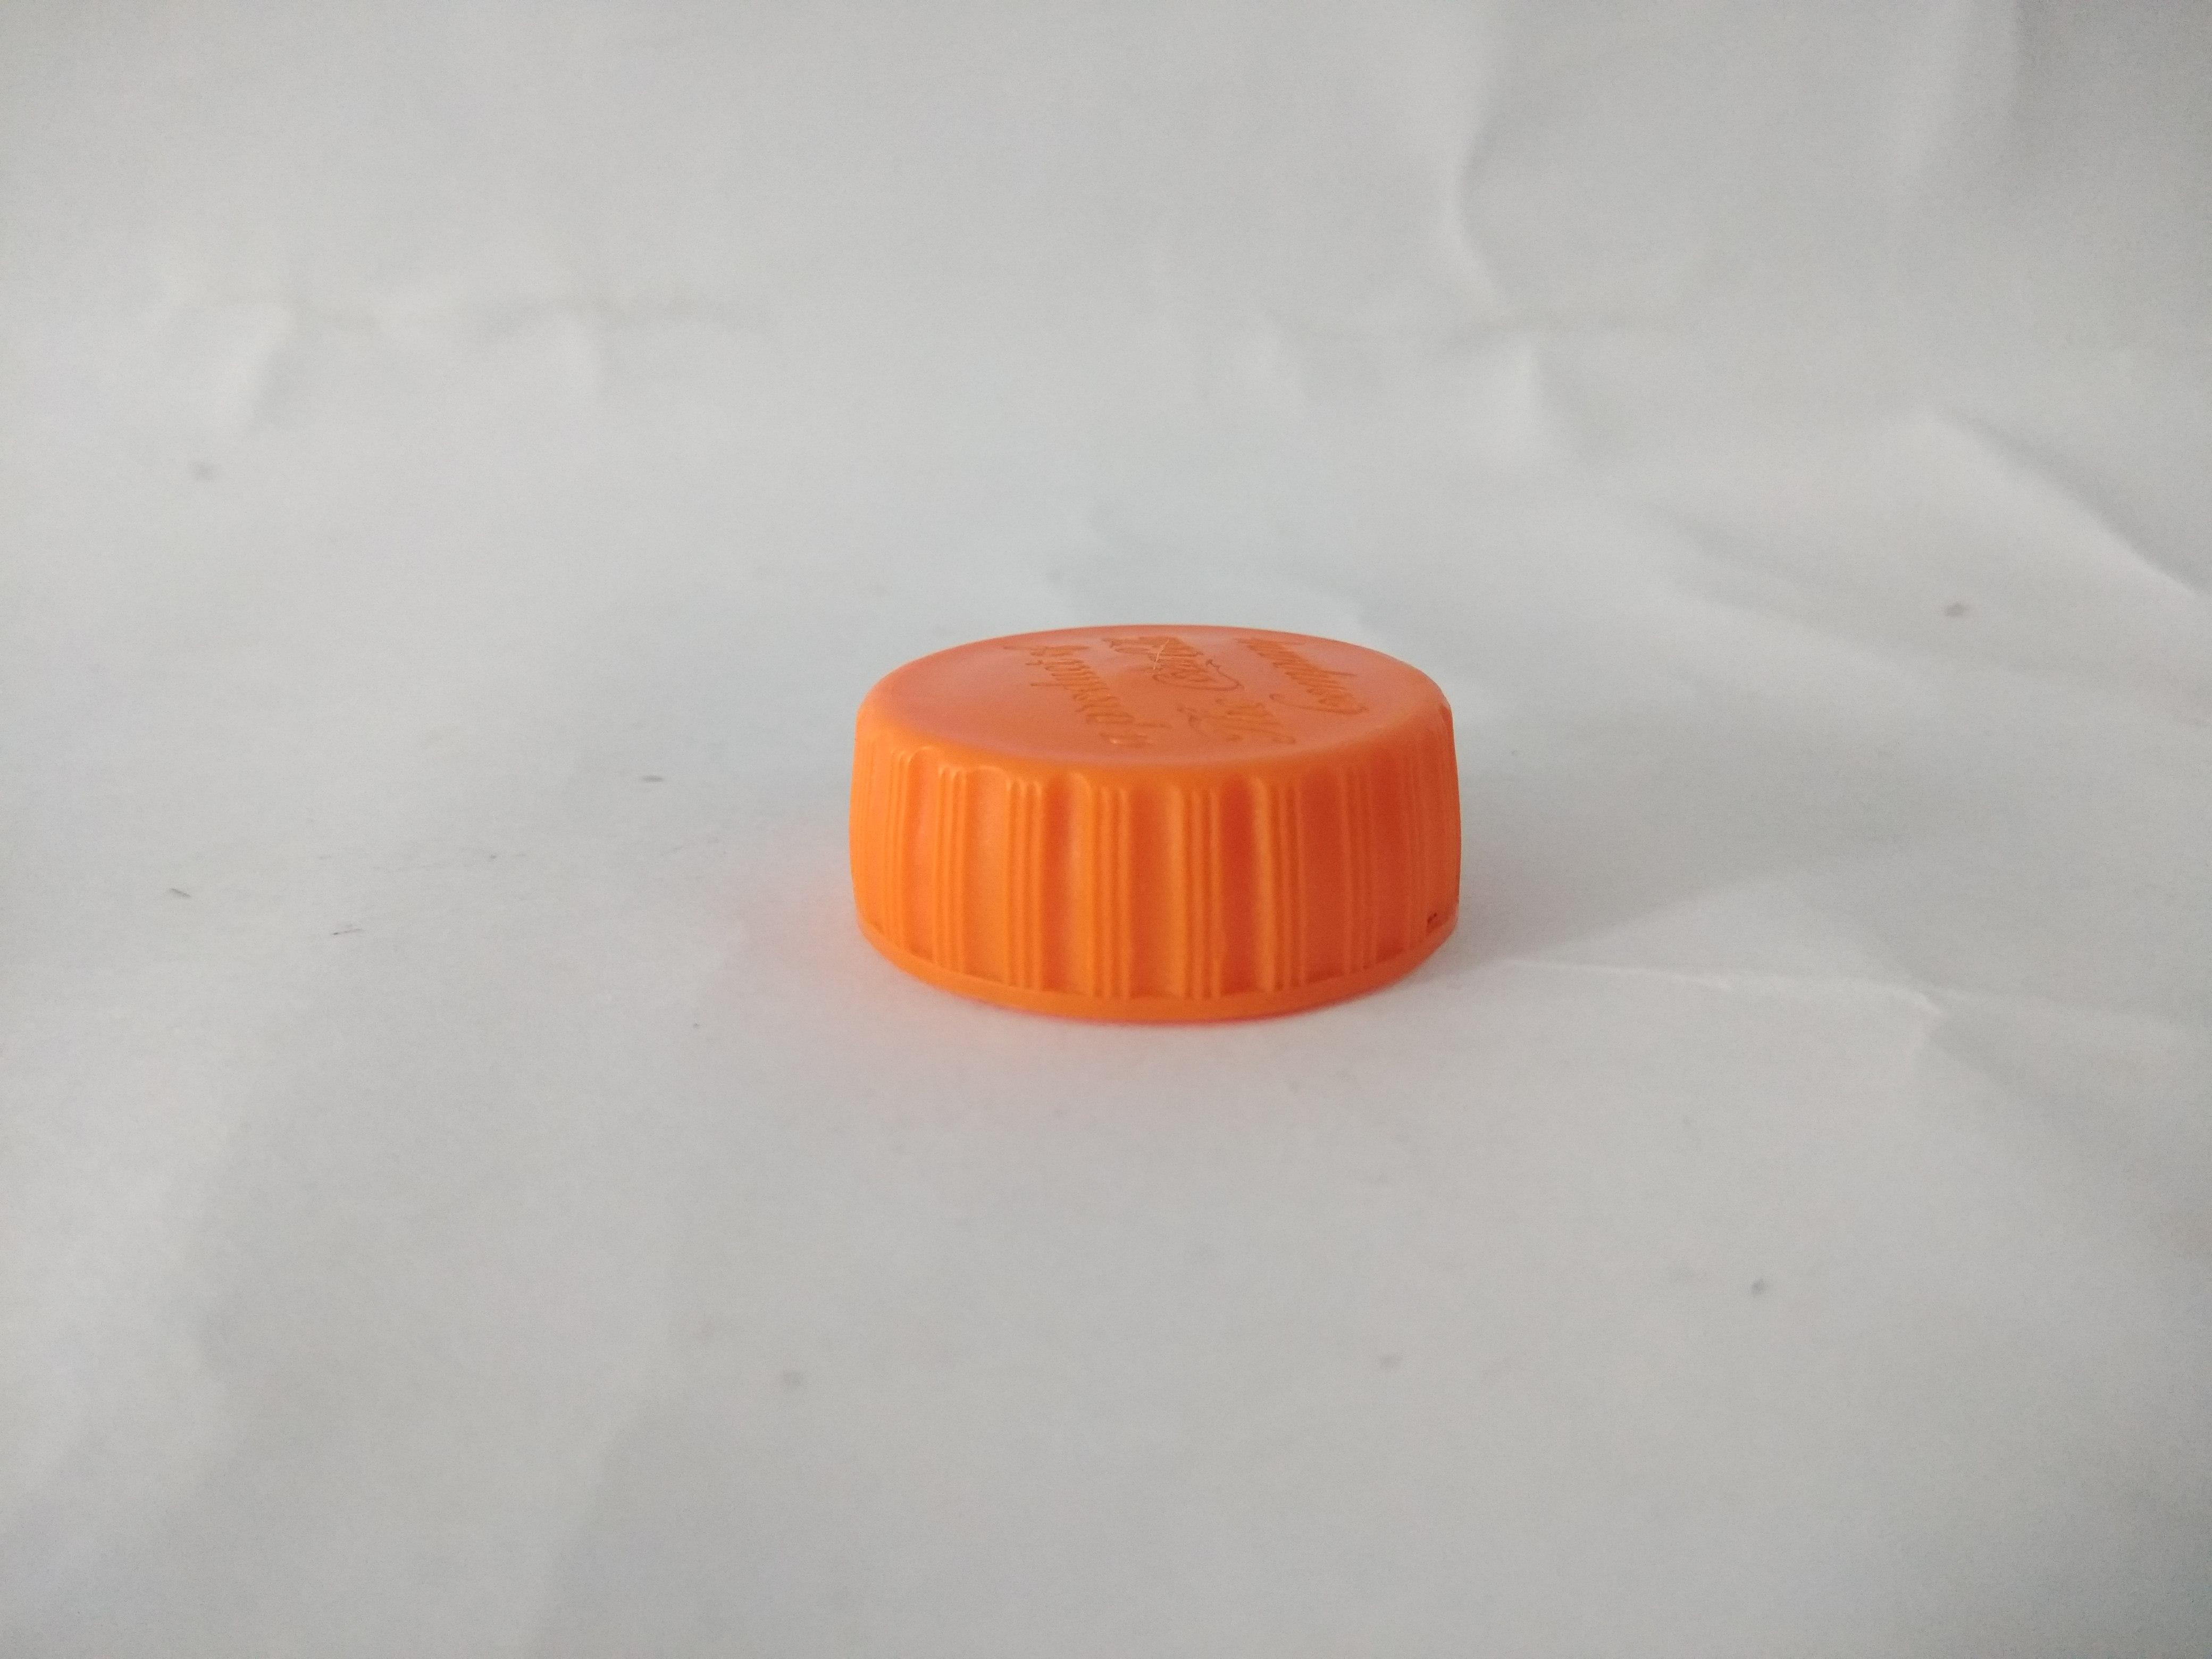HDPE: (719, 512, 1588, 1169)
